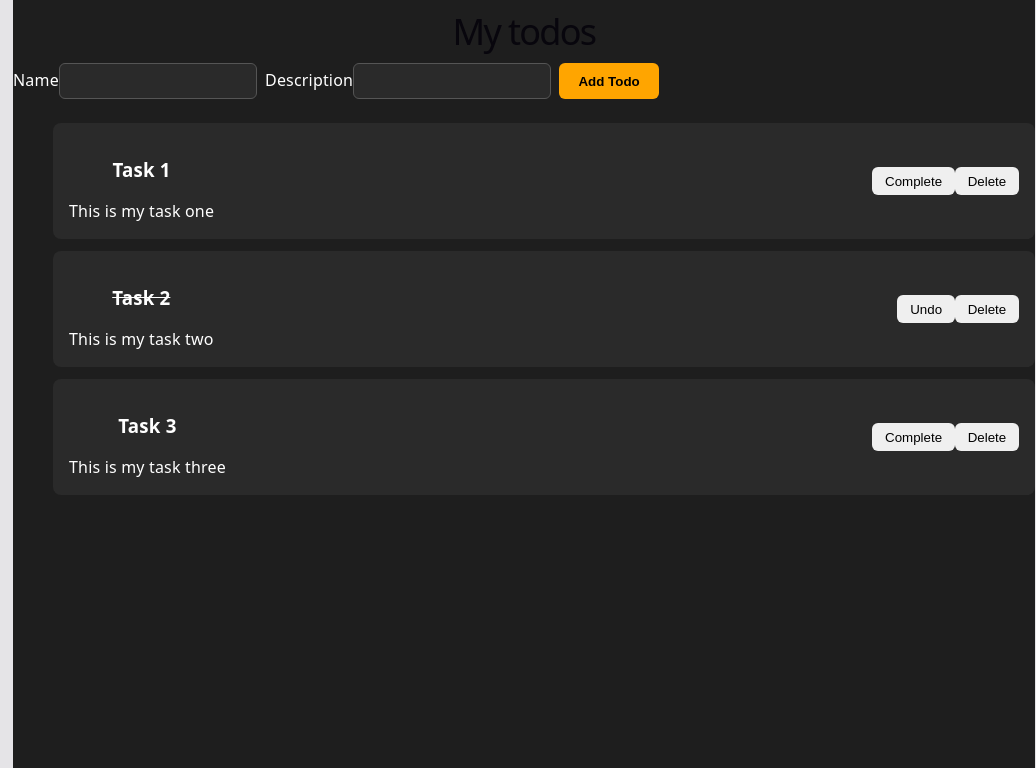
Test: App (integration) › Mark as complete and undo
This screenshot has width=1036, height=768.
Click the button named "mark \"task 1\" as complete" at [914, 181], box [872,167,955,195]
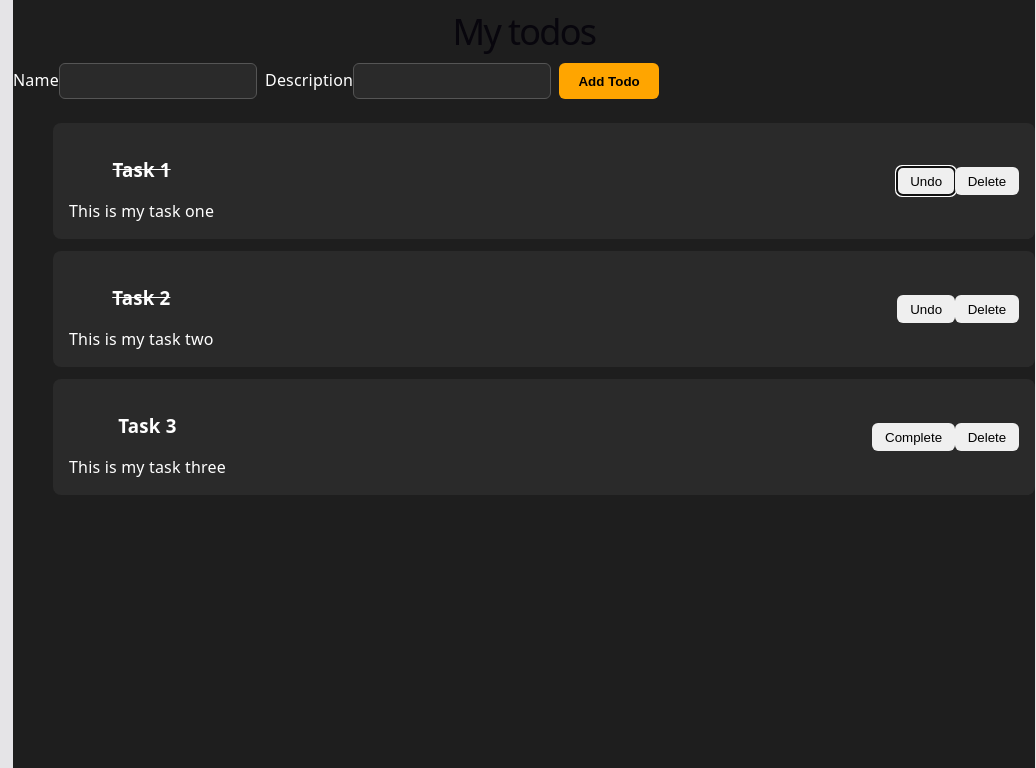
expect the button named "mark \"task 1\" as not complete" is shown: met
Click the button named "mark \"task 1\" as not complete" at [926, 181], box [897,167,955,195]
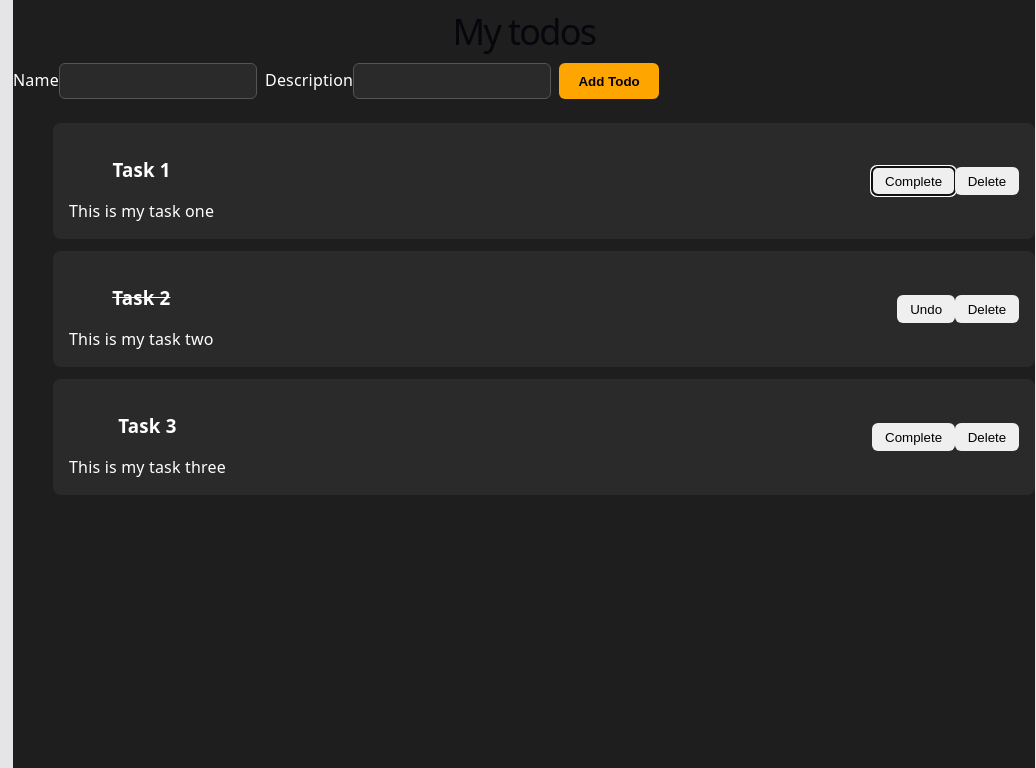
expect the button named "mark \"task 1\" as complete" is shown: met, box [872,167,955,195]
